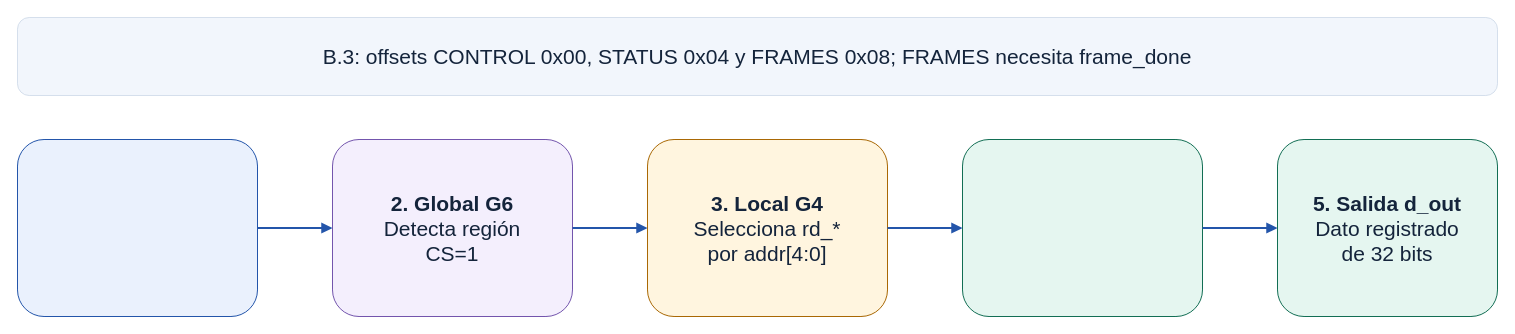
Image size: 1515x334. Some labels were removed from this diagram. The centre of each missing label's shape, as x and y in pixels:
"1. CPU RD=1 Dirección de registro" belongs at point 137,227.
"4. Mux de lectura Elige CONTROL / STATUS / FRAMES" belongs at point 1082,227.
